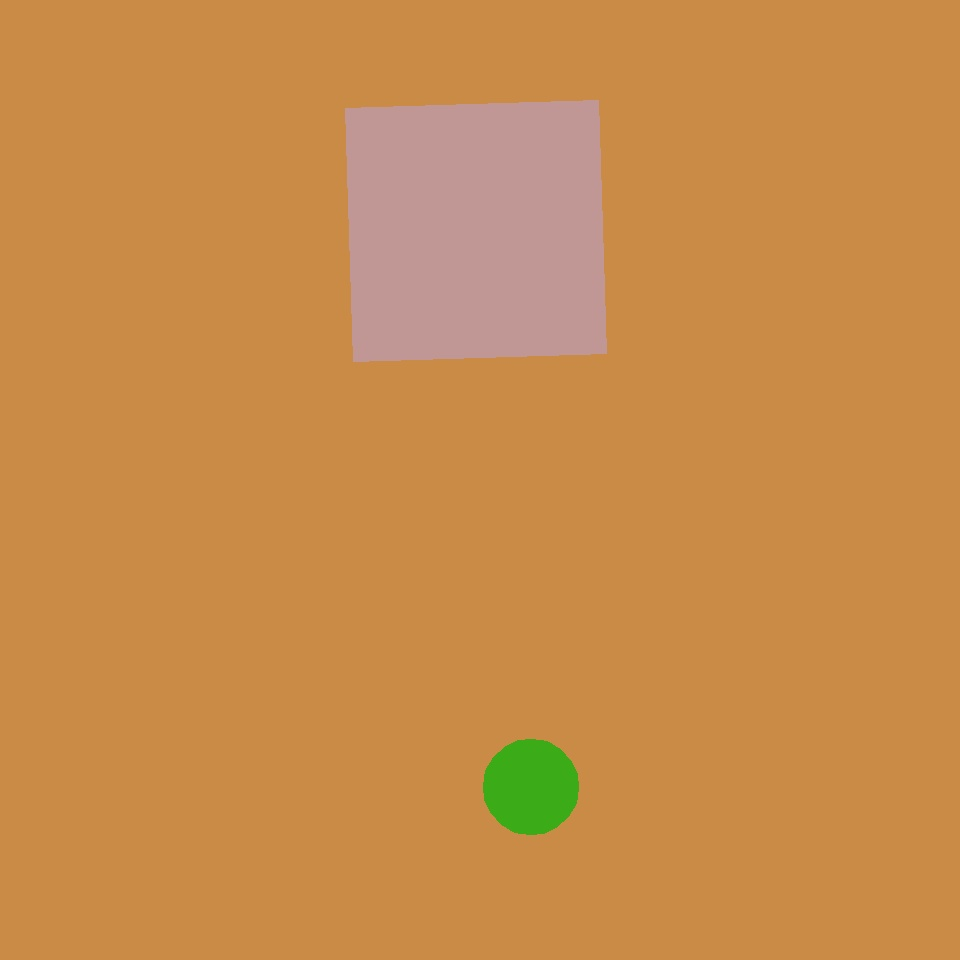circle: (756, 719, 900, 855)
square: (39, 431, 310, 702), (239, 535, 502, 798), (346, 101, 606, 362), (300, 646, 418, 763)
triangle: (416, 564, 698, 846), (466, 114, 686, 335), (484, 740, 578, 834)
